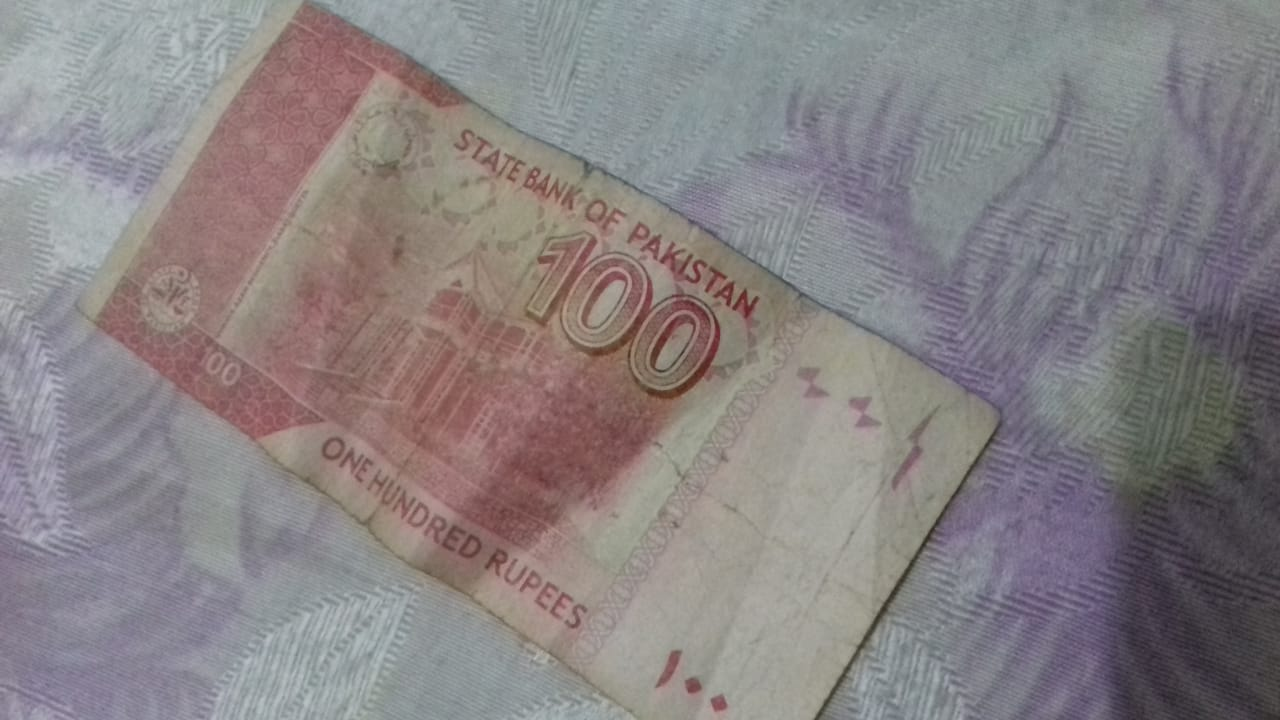100 rupee: (76, 11, 1006, 713)
